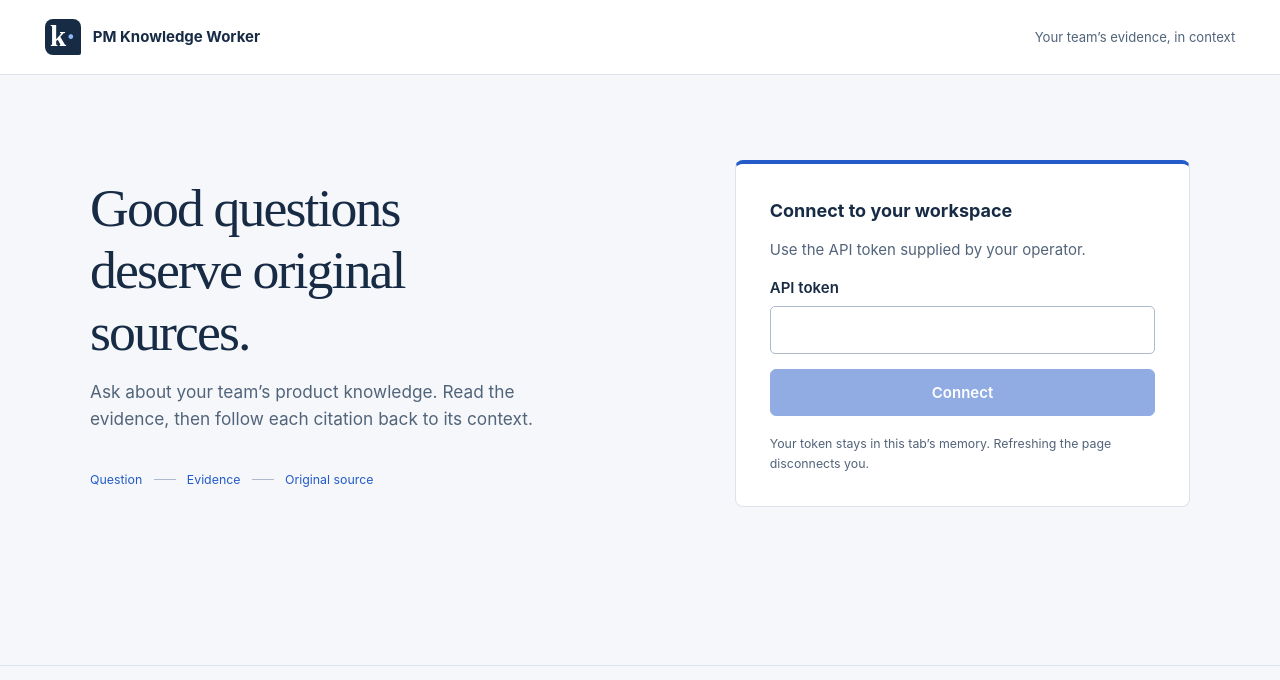
reuses a historical version without reactivating it or editing destination metadata
Later steps or results of the test are not shown.
Type "synthetic-token" into the password field labelled "API token". click: {"x": 963, "y": 330}
box: [770,306,1155,354]
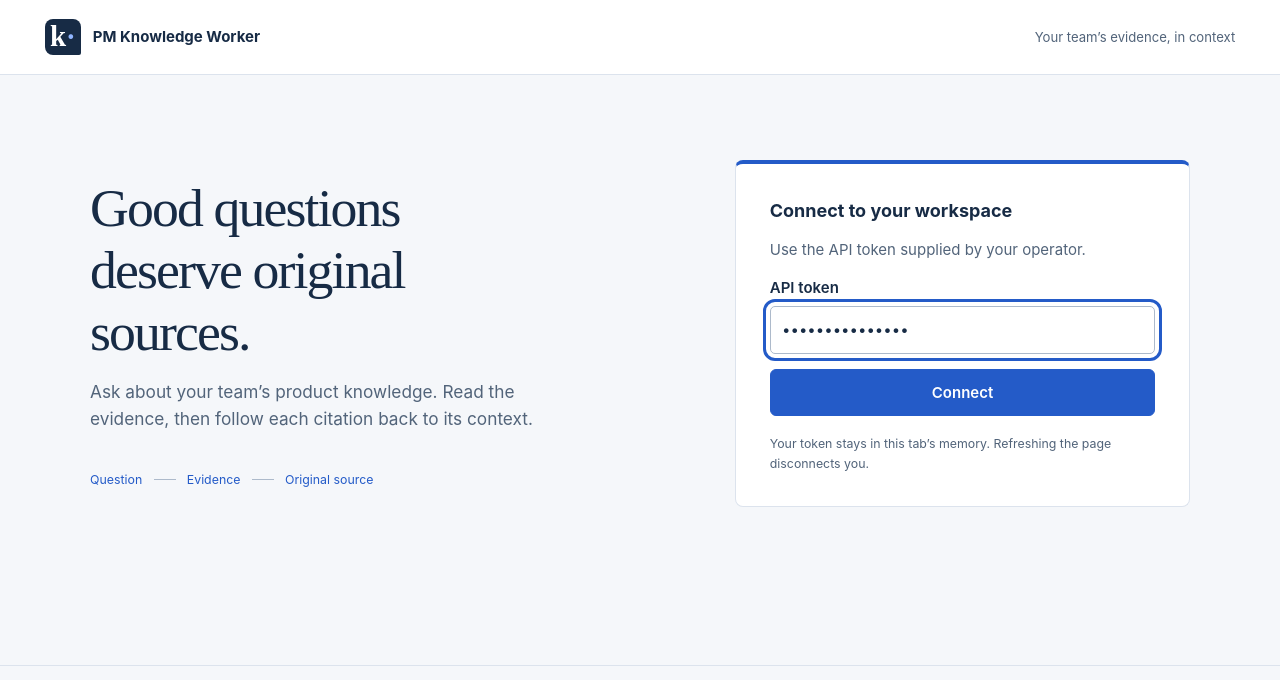
Click the button "Connect". click: {"x": 963, "y": 392}
box: [770,369,1155,416]
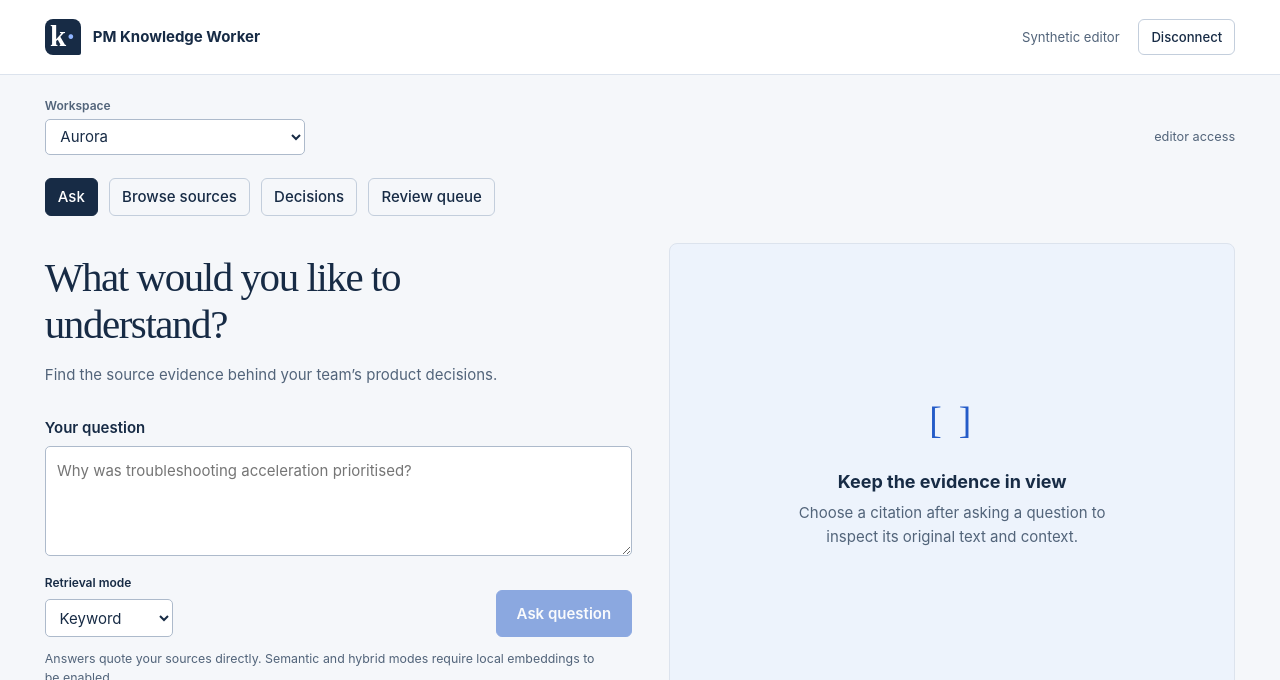
Now the dropdown labelled "Workspace" is shown, box [45,119,305,155]
Click the button "Browse sources". click: {"x": 179, "y": 197}
box: [109,178,250,216]
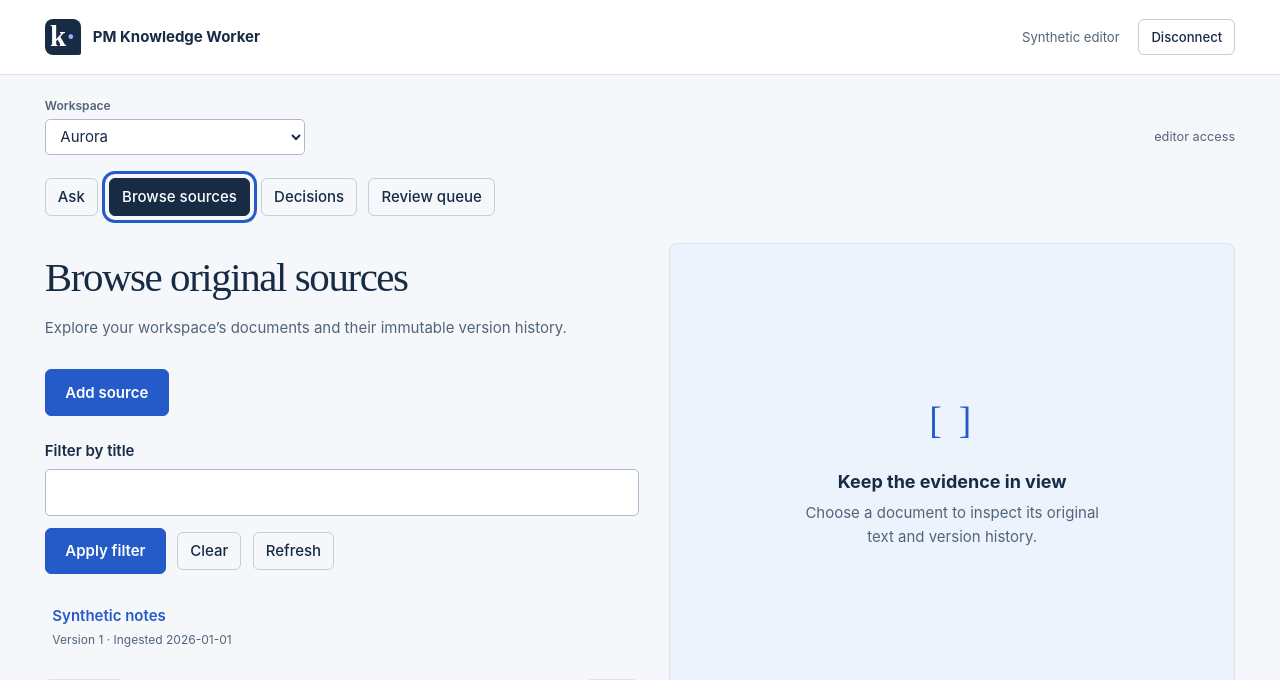
Now the button with aria-label "Open Synthetic notes" is shown
Click the button with aria-label "Open Synthetic notes". click: {"x": 109, "y": 616}
box: [45,589,639,664]
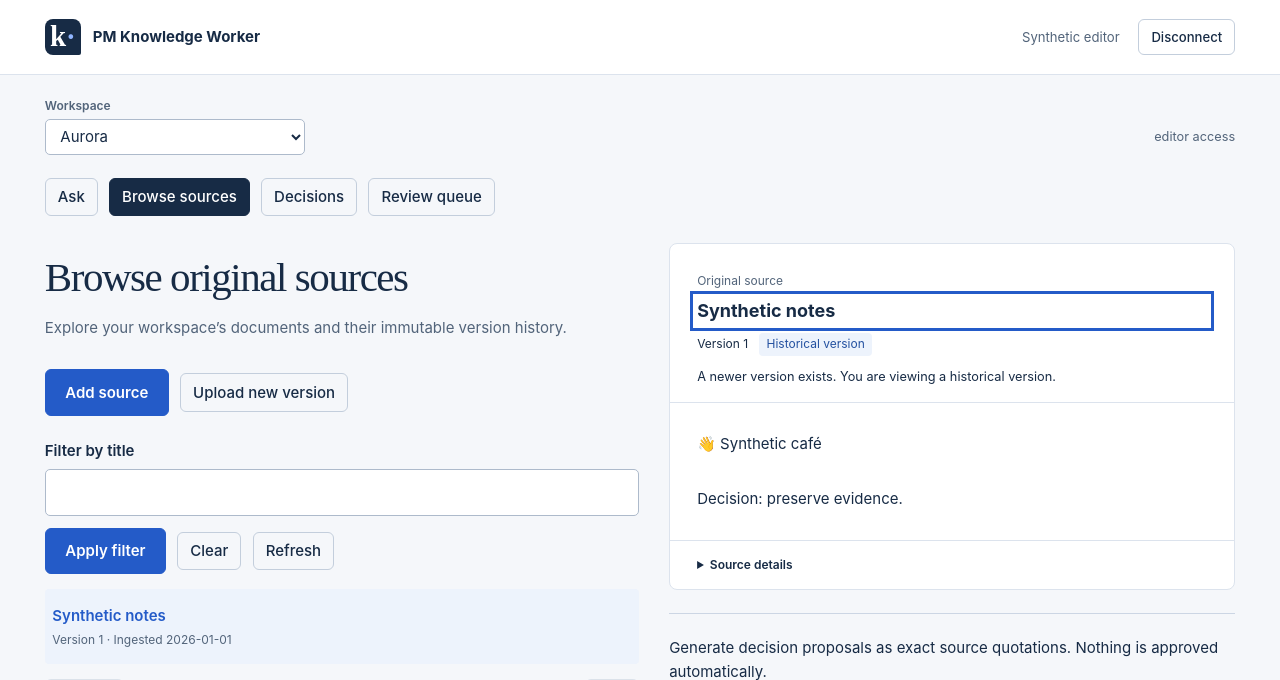
Now the text "Historical version" is shown, box [759,332,872,356]
